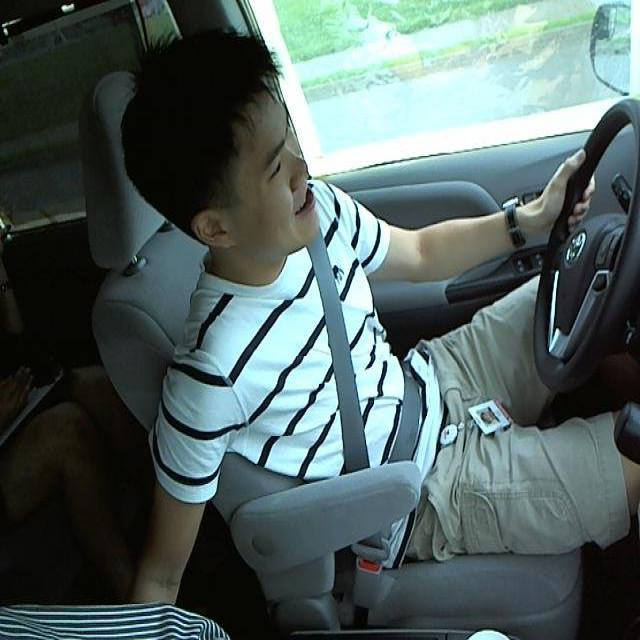seatbelt: (297, 255, 431, 481)
